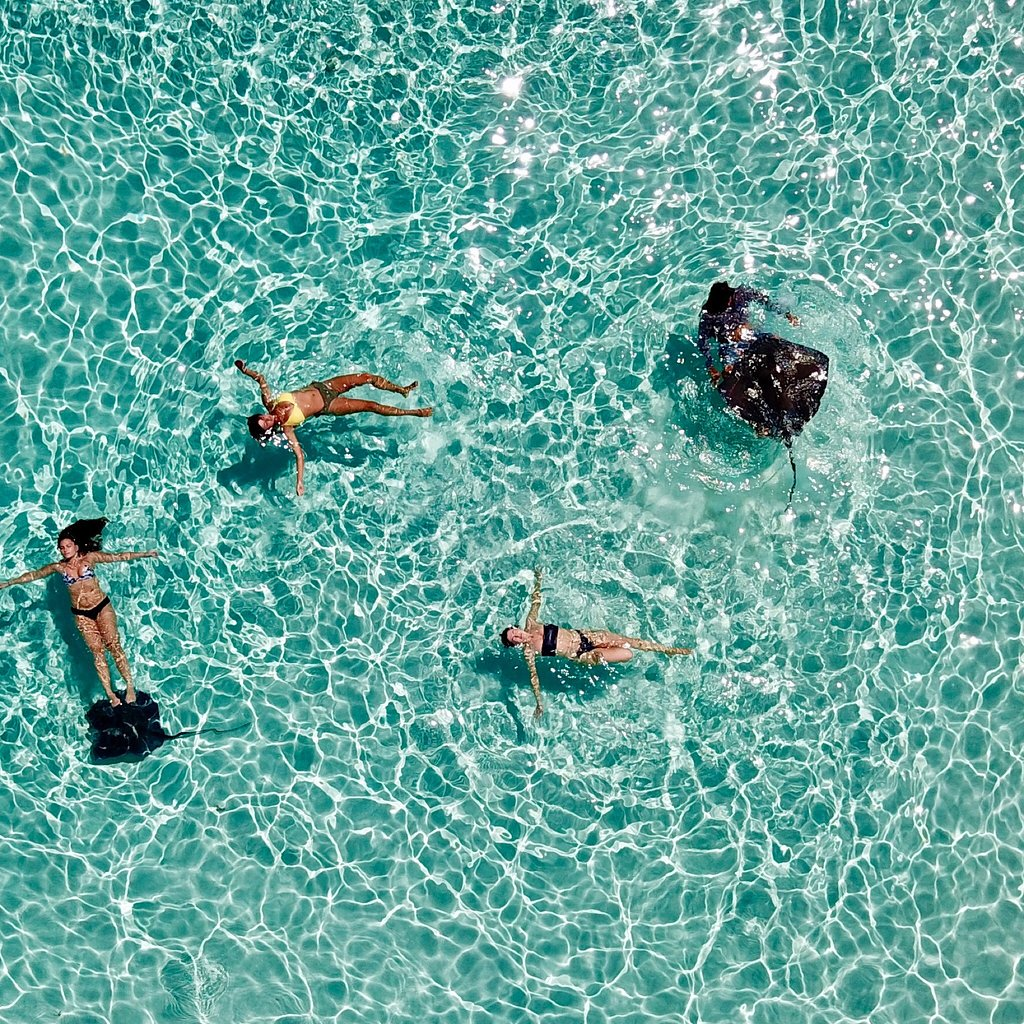people: (2, 515, 168, 711), (495, 565, 696, 722), (230, 354, 436, 500), (691, 275, 799, 380)
